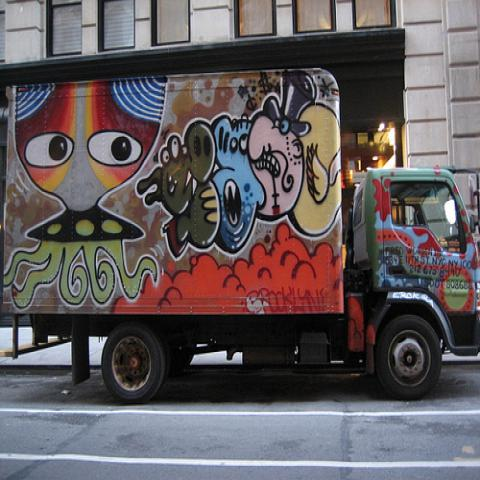truck: (1, 65, 479, 404)
